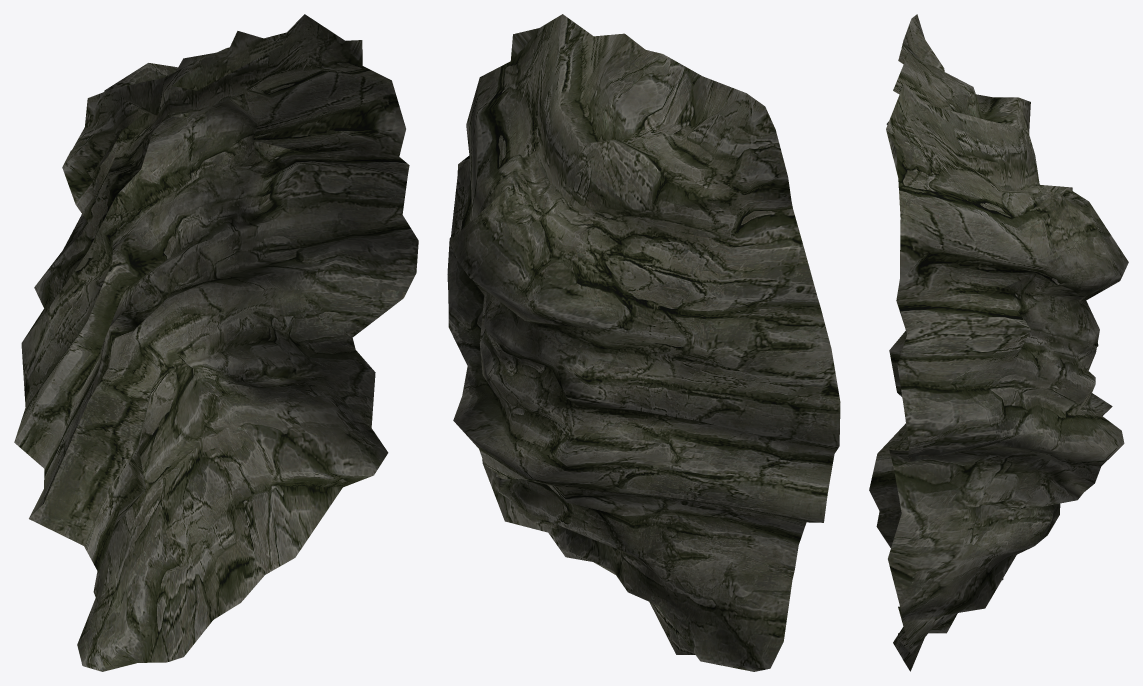
Rendered from TI_Cliff_02_n_LOD_01.fbx.
3 views of the same model, side by side, from view 1: azimuth 30°, elevation 25°; view 2: azimuth 150°, elevation 25°; view 3: azimuth 270°, elevation 25° (orthographic). The views are drawn at different scales.
Visible parts, largest first — view 1: TI_Cliff_02_n_LOD_01; view 2: TI_Cliff_02_n_LOD_01; view 3: TI_Cliff_02_n_LOD_01.
Boxes of the visible parts, x1,y1,x2,y2 form: TI_Cliff_02_n_LOD_01: (14, 14, 418, 671); TI_Cliff_02_n_LOD_01: (447, 14, 840, 671); TI_Cliff_02_n_LOD_01: (869, 14, 1128, 671).
Size of the model in its own units: 5.96 by 8.79 by 3.19.
